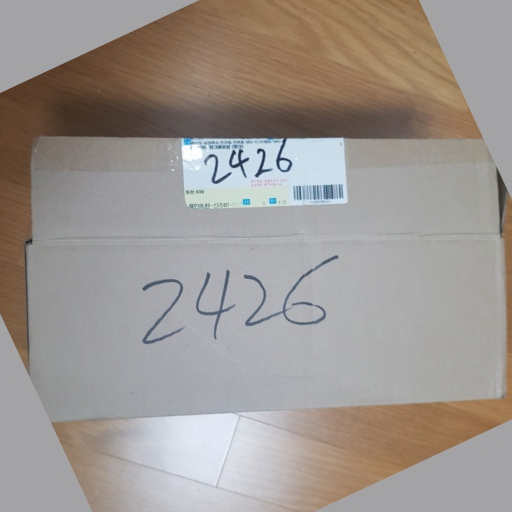Paper_0: (17, 133, 512, 430)
